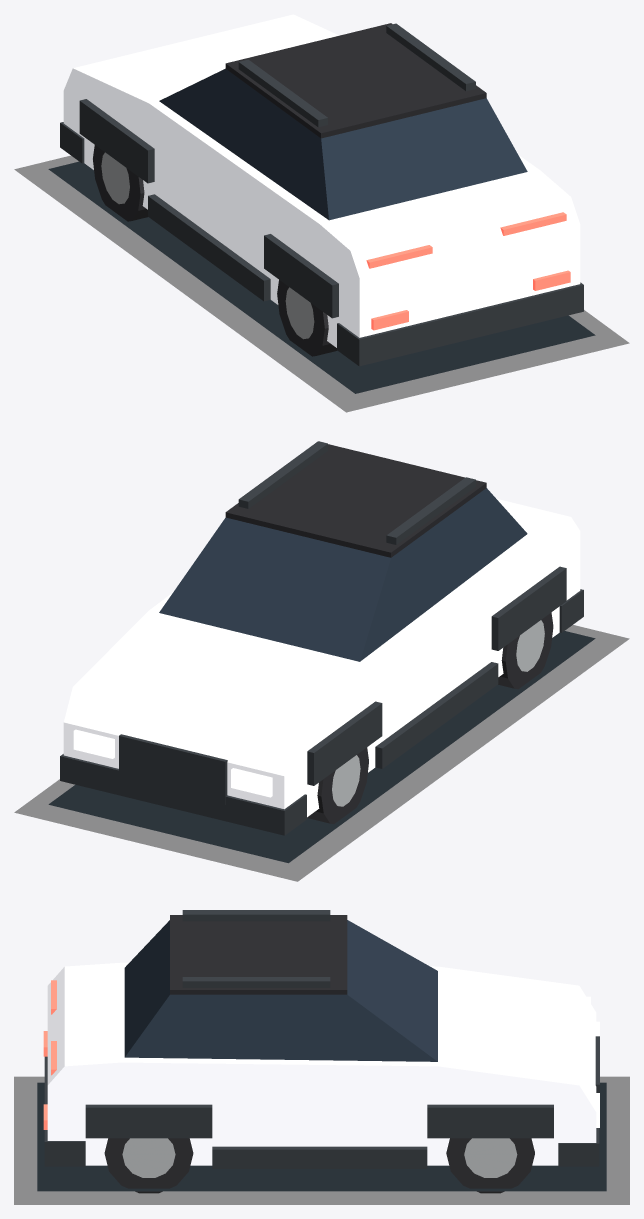
File: autobox_car.glb
The picture shows the model from 3 angles, top to bottom: view 1: azimuth 30°, elevation 25°; view 2: azimuth 150°, elevation 25°; view 3: azimuth 270°, elevation 25°; orthographic projection. The views are drawn at different scales.
Parts seen in each view (by area): view 1: Base, Base_glass, Base_trim, Base_roof, Shadow, Outline, Base_tyre, Base_taillight, Base_rim; view 2: Base, Base_glass, Base_trim, Base_roof, Shadow, Outline, Base_tyre, Base_headlight, Base_rim; view 3: Base, Base_glass, Base_trim, Shadow, Outline, Base_roof, Base_tyre, Base_rim, Base_headlight, Base_taillight.
Boxes of the visible parts, box(x1,y1,x2,y2) form: Base: box(63, 14, 580, 347); Base_glass: box(159, 68, 527, 220); Base_trim: box(60, 23, 583, 366); Base_roof: box(225, 23, 486, 138); Shadow: box(14, 155, 629, 412); Outline: box(48, 161, 595, 393); Base_tyre: box(93, 145, 337, 356); Base_taillight: box(366, 212, 570, 330); Base_rim: box(101, 152, 314, 339); Base: box(63, 498, 580, 817); Base_glass: box(159, 488, 527, 661); Base_trim: box(60, 441, 583, 835); Base_roof: box(225, 444, 486, 557); Shadow: box(14, 625, 629, 881); Outline: box(48, 631, 595, 863); Base_tyre: box(307, 612, 553, 823); Base_headlight: box(73, 698, 278, 797); Base_rim: box(332, 620, 544, 806); Base: box(47, 962, 596, 1165); Base_glass: box(124, 920, 437, 1061); Base_trim: box(44, 910, 599, 1168); Shadow: box(14, 1076, 629, 1204); Outline: box(37, 1082, 606, 1191); Base_roof: box(170, 915, 347, 994); Base_tyre: box(104, 1138, 534, 1193); Base_rim: box(122, 1138, 517, 1177); Base_headlight: box(584, 996, 599, 1127); Base_taillight: box(43, 980, 56, 1129).
Bounding box in the file's own units: 1.44 × 1.02 × 2.92.
